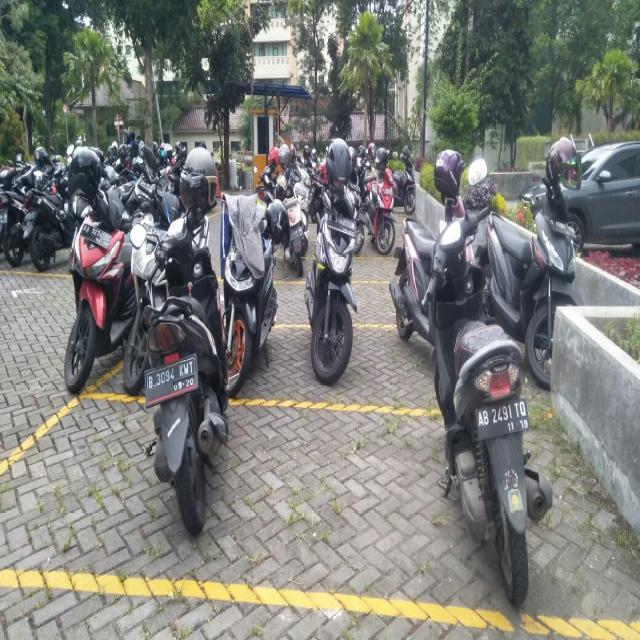plate: (144, 352, 196, 395), (473, 399, 529, 432), (80, 220, 110, 252), (327, 208, 354, 237)
